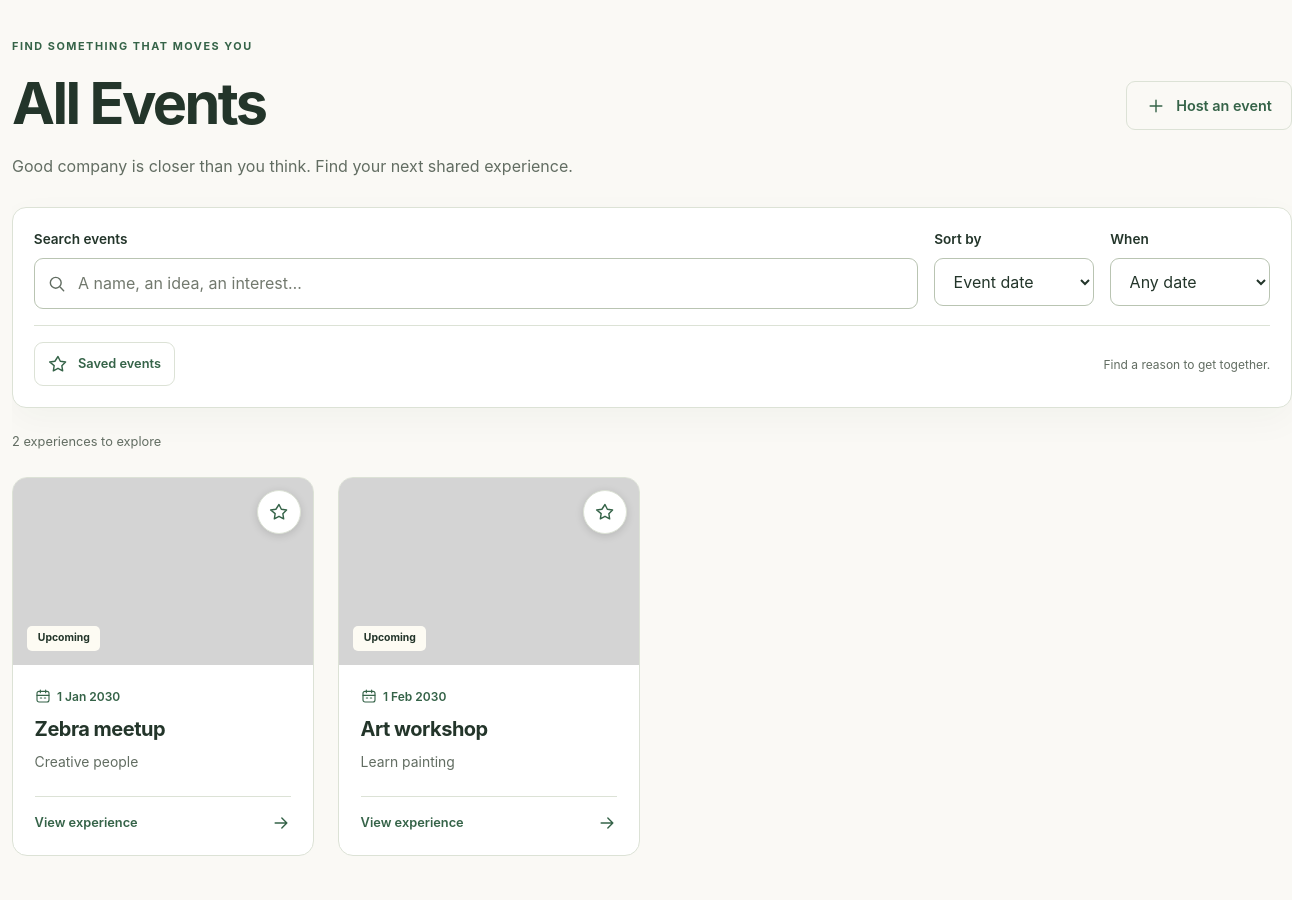
Test case: persists favorites and shows only saved events
The image size is (1292, 900).
Step 1. Click the button named "Save Art workshop to favorites" → coordinates (605, 512), box left=583, top=490, right=627, bottom=534
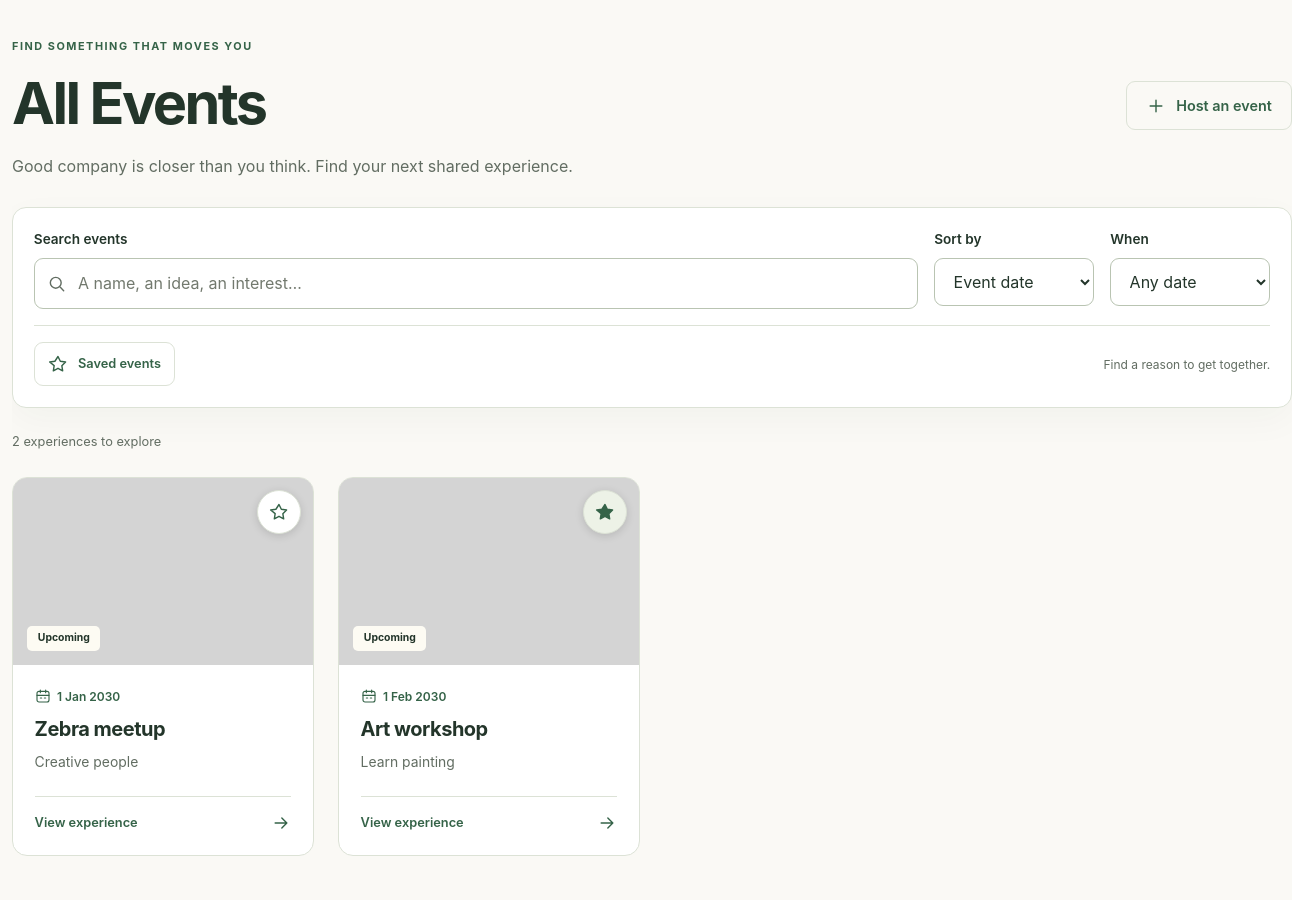
Step 2. Click the button "Saved events" → coordinates (104, 364), box left=34, top=342, right=175, bottom=386
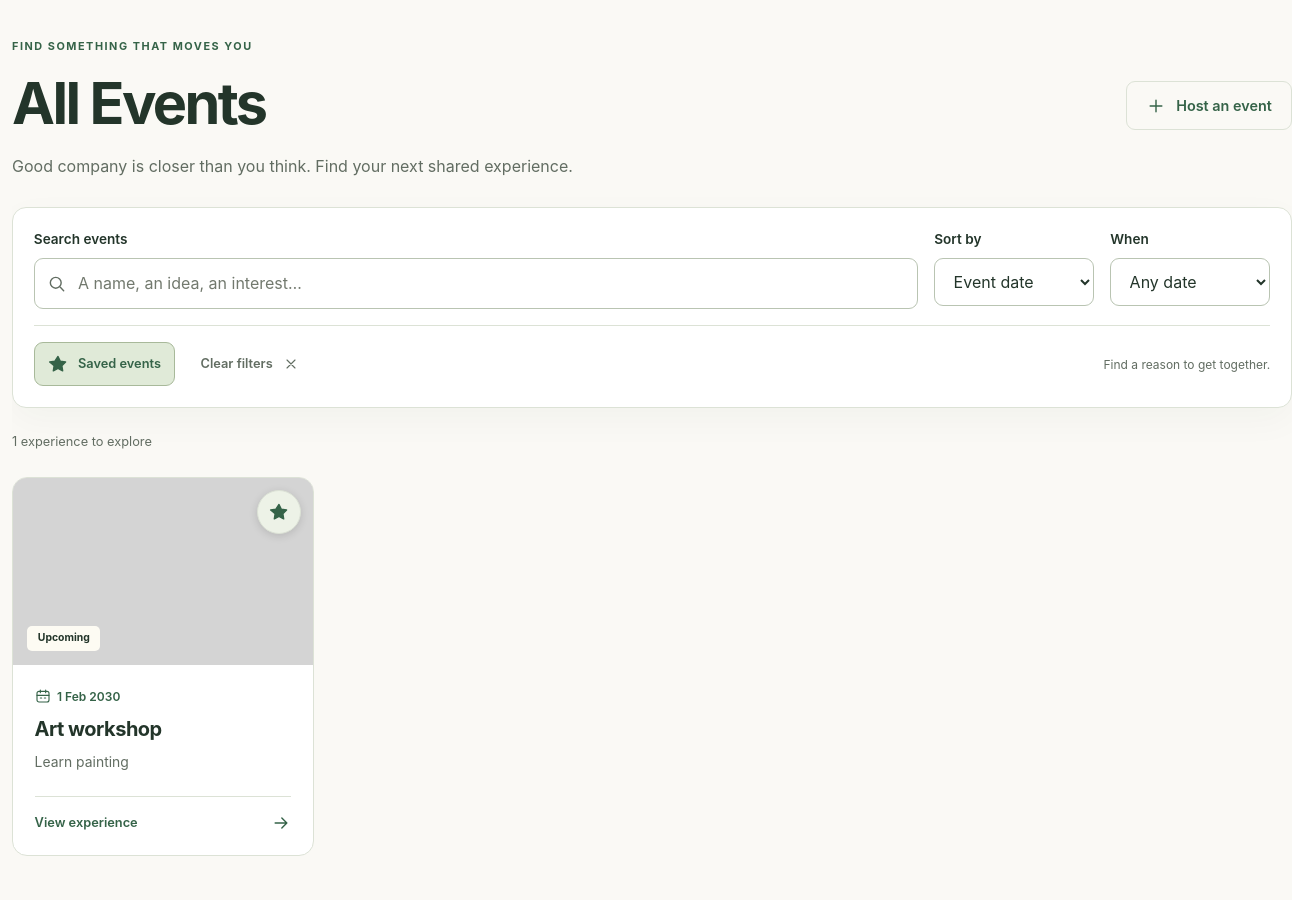
Result: the link "Zebra meetup" is gone
Step 3. Click the button named "Remove Art workshop from favorites" → coordinates (279, 512), box left=257, top=490, right=301, bottom=534
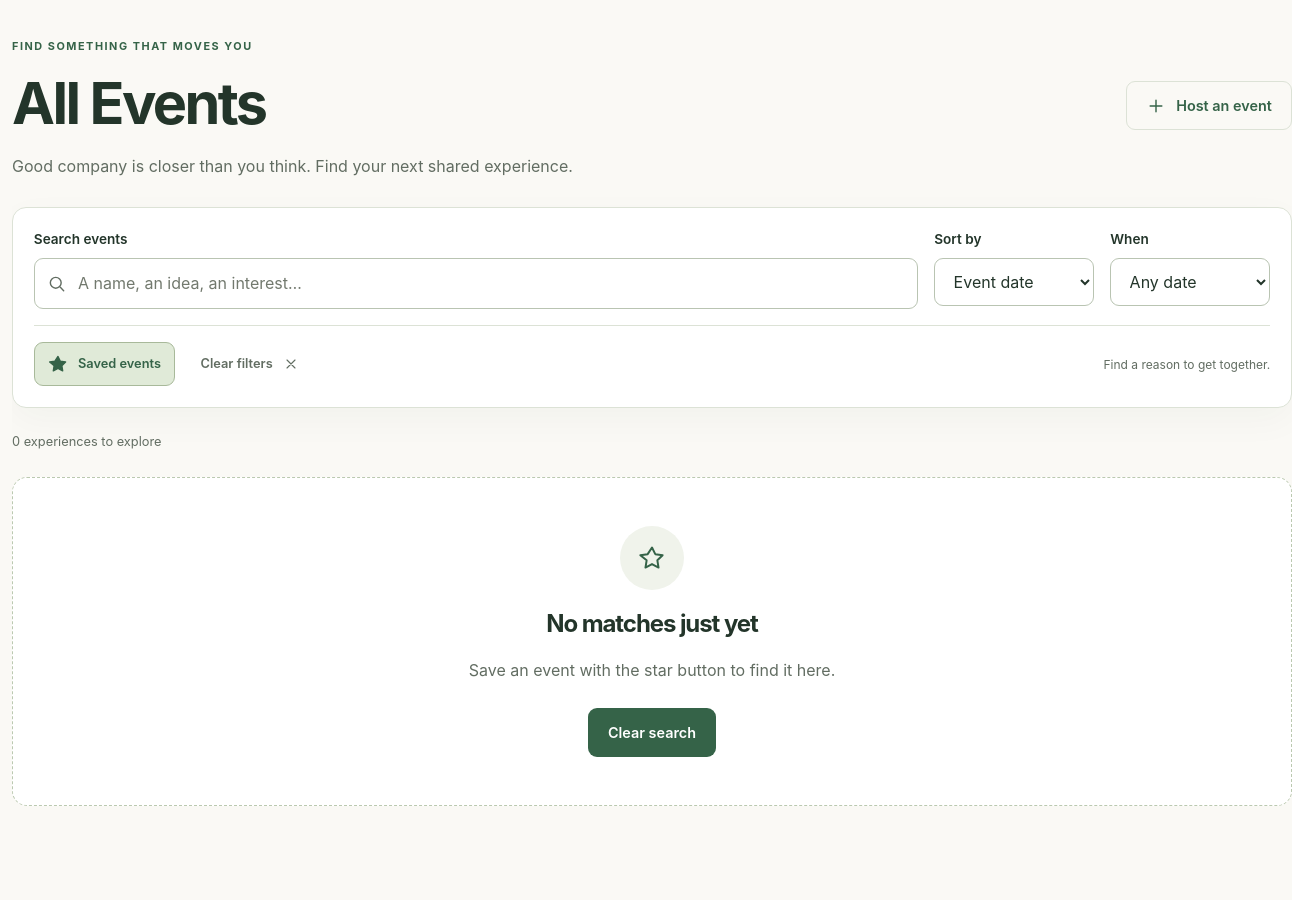
Result: the heading "No matches just yet" is shown at left=546, top=609, right=758, bottom=638
